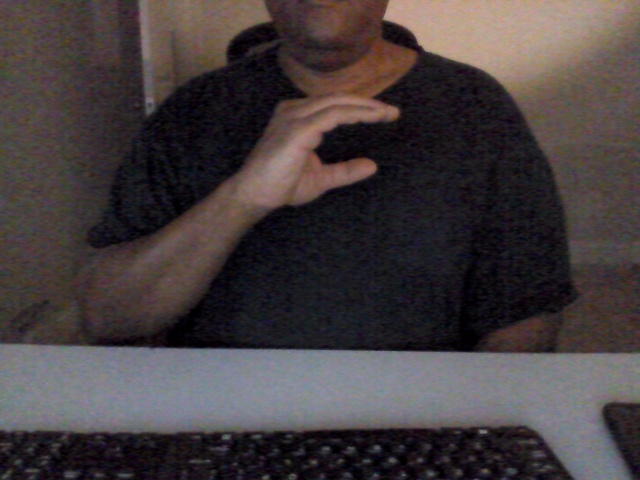police: (252, 87, 405, 221)
